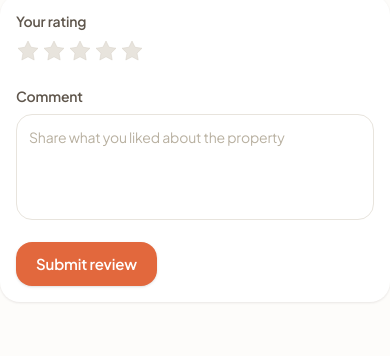
Scenario: ReviewForm › shows a validation error when submitting with no rating selected
The image size is (390, 356).
Click the button "Submit review" at (86, 264), box [16,242,157,286]
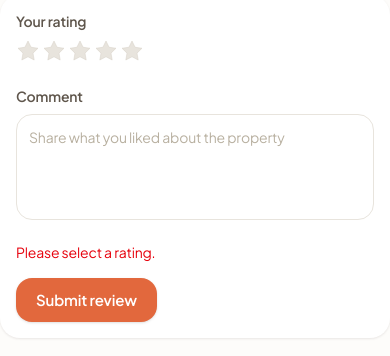
Result: the text "Please select a rating." is shown at [16,243,156,261]
